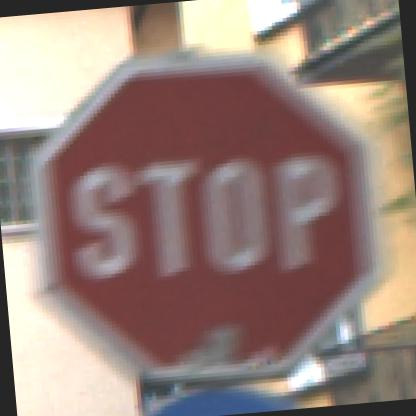stop: (27, 32, 406, 398)
